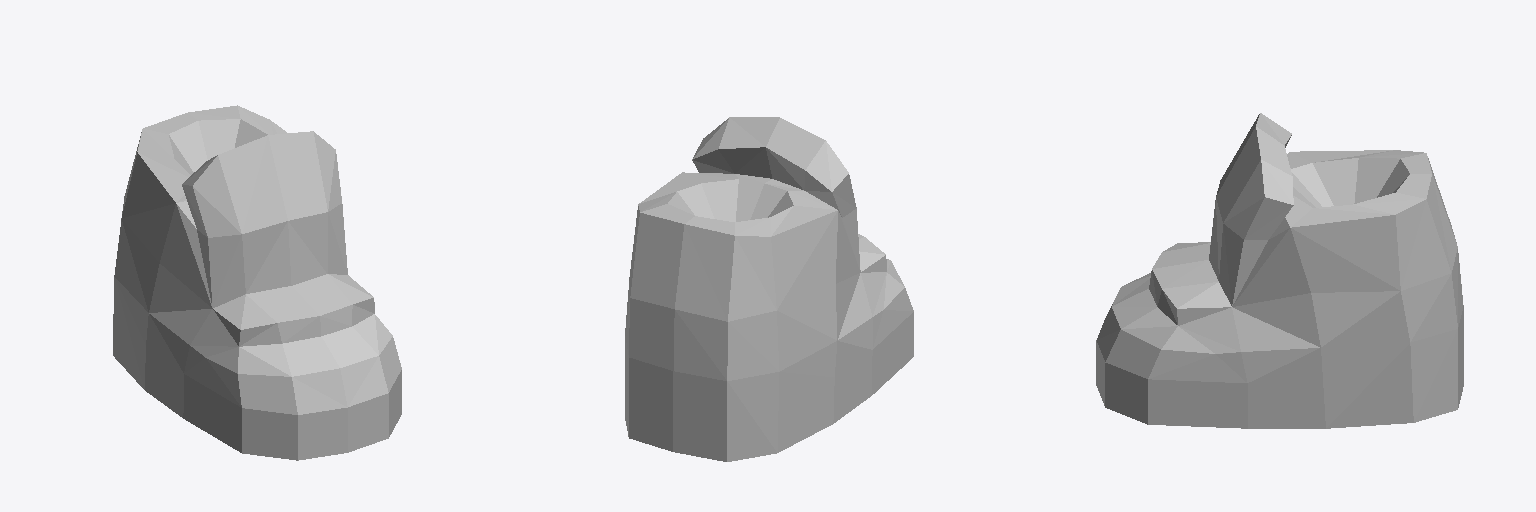
Rendered from Super Right Sneakers.obj.
3 views of the same model, side by side, from view 1: azimuth 30°, elevation 25°; view 2: azimuth 150°, elevation 25°; view 3: azimuth 270°, elevation 25° (orthographic).
Visible parts, largest first — view 1: jumpBooster; view 2: jumpBooster; view 3: jumpBooster.
Part boxes in pixels (bbox=[...]): jumpBooster: bbox=[113, 105, 401, 460]; jumpBooster: bbox=[625, 117, 913, 461]; jumpBooster: bbox=[1096, 113, 1463, 428].
Size of the model in its own units: 1.6 by 2.24 by 2.87.